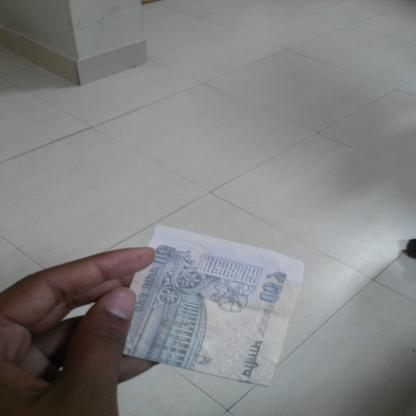Old50Back: (123, 224, 305, 388)
